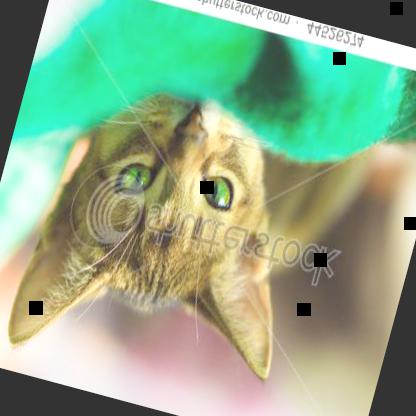cat: (0, 67, 330, 411)
